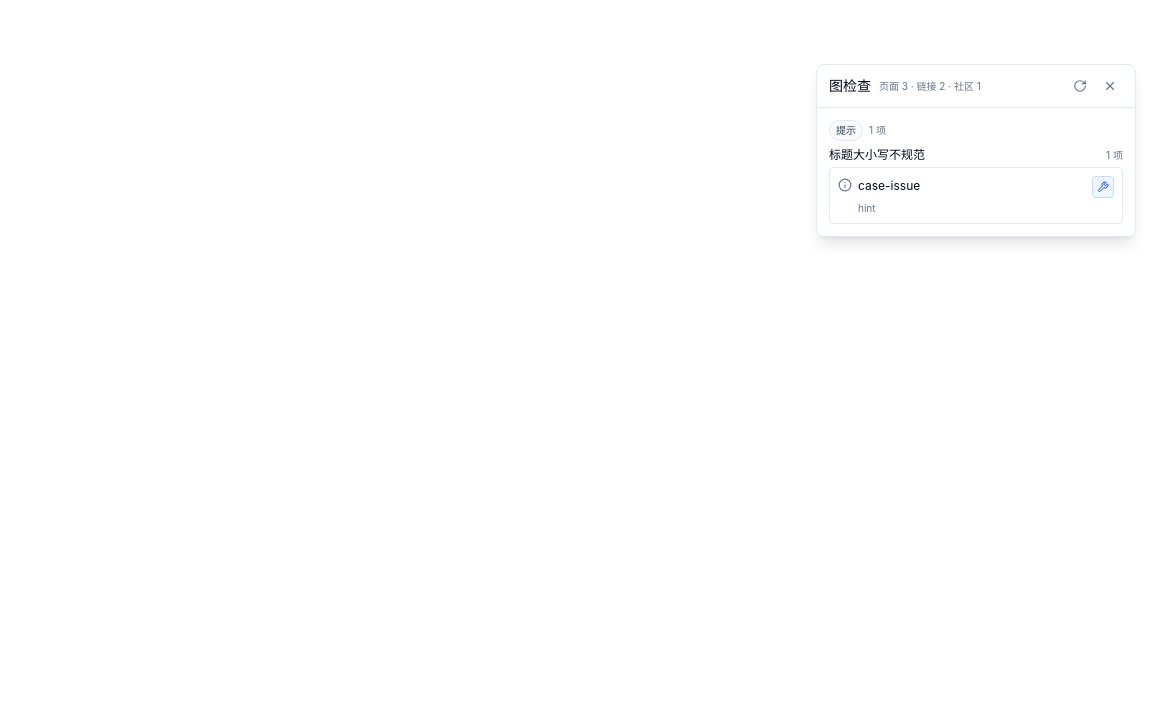
LintPanel › 修复失败时显示错误 toast，issue 保留在列表中
This screenshot has width=1152, height=720.
Click the button named "一键修复" at (1103,187), box [1092,176,1114,198]
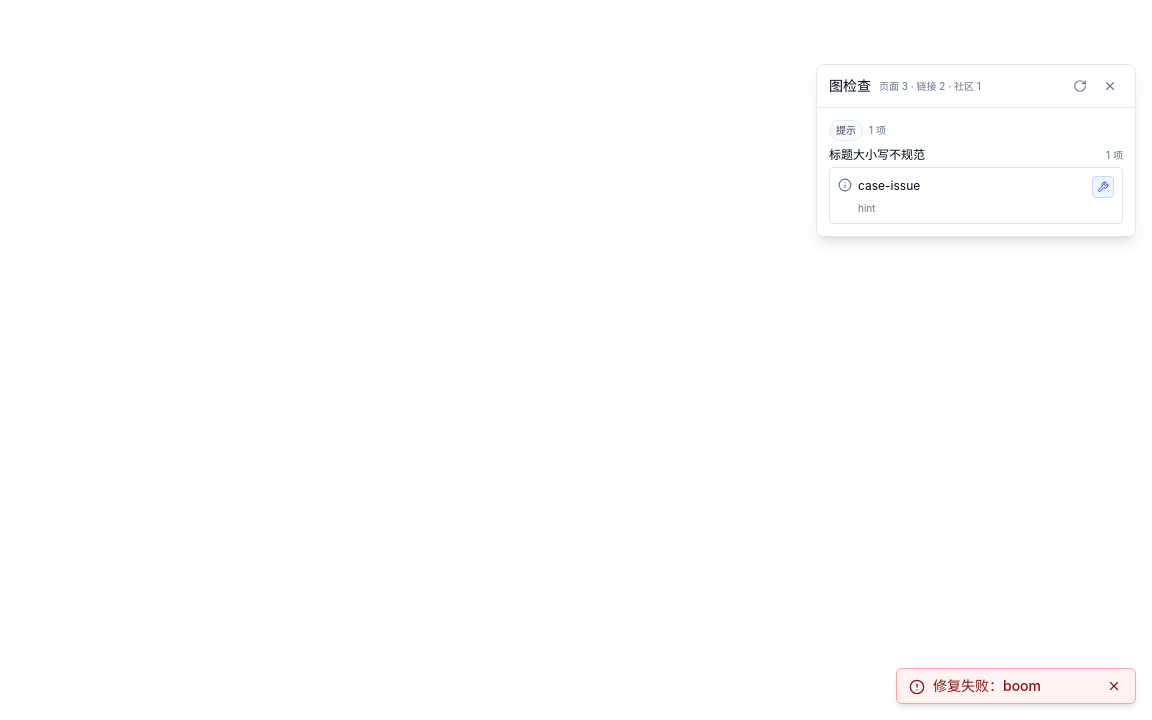
Expected: the text "case-issue" is shown, [858,178,920,193]
Expected: the text "修复失败：boom" is shown, [933,677,1041,694]
